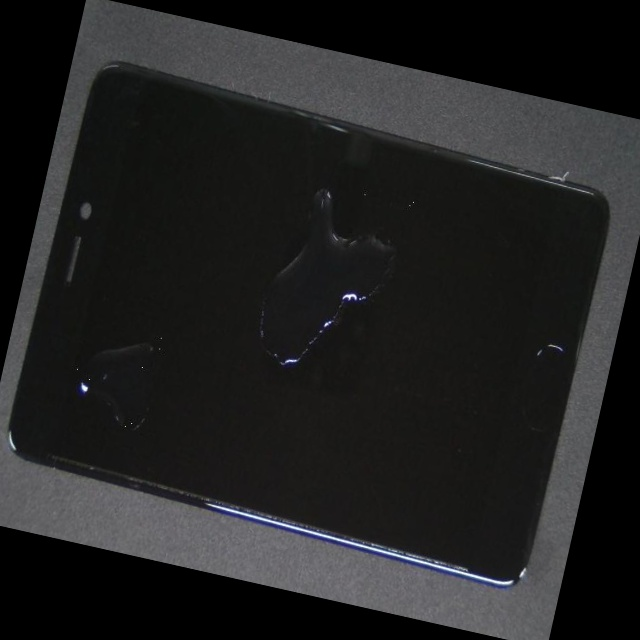oil: (0, 158, 171, 546), (191, 148, 489, 327)
